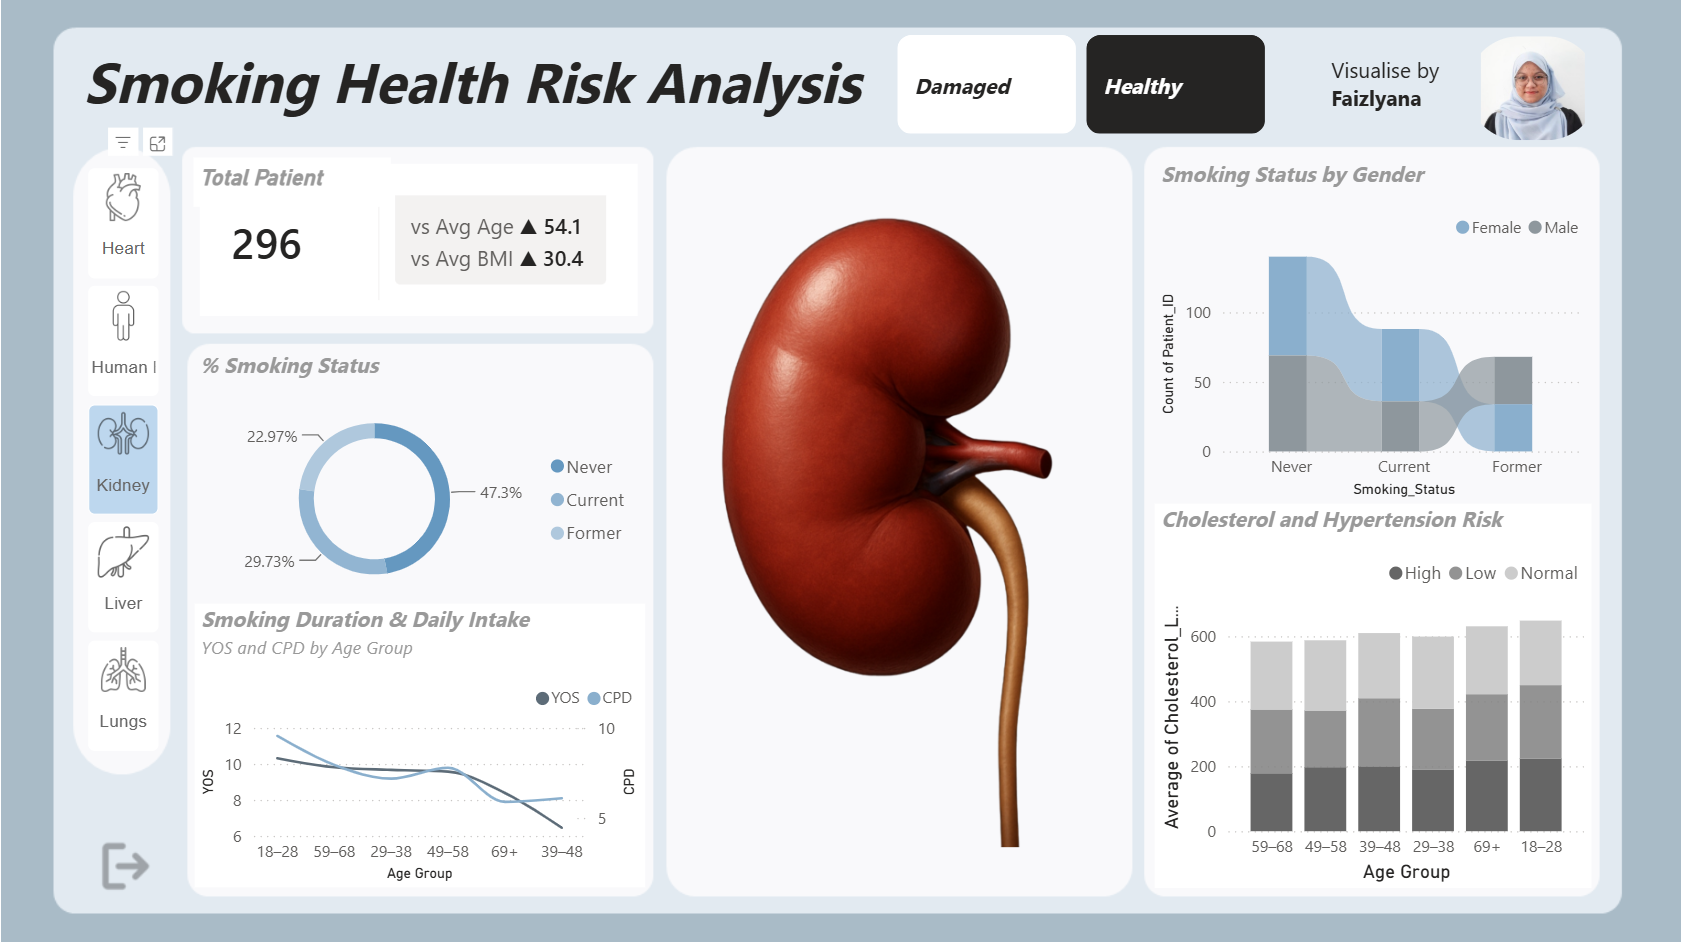

Layout of this report page (visuals, bound fields, positions):
{"tool":"powerbi","page":{"name":"Page 1","canvas":[1280,720],"ordinal":0},"visuals":[{"type":"cardVisual","fields":{"Data":["CountNonNull(health_dataset.Patient_ID)"]},"box":[146.5,119.8,343.1,126.2],"z":0},{"type":"textbox","box":[146.5,119.8,150,37.2],"z":1000},{"type":"advancedSlicerVisual","fields":{"Values":["condition.Organ_Condition"]},"box":[677.9,22.1,291.4,85.1],"z":2000},{"type":"ChicletSlicer1448559807354","fields":{"Category":["Organ.Organ"],"Image":["Organ.Icon_URL"]},"box":[58.1,119.8,73.3,465.1],"z":3000},{"type":"image","box":[511.6,119.8,344.2,557],"z":4000},{"type":"donutChart","title":"% Smoking Status","fields":{"Category":["health_dataset.Smoking_Status"],"Y":["CountNonNull(health_dataset.Smoking_Status)"]},"box":[146.5,266.3,343,194.2],"z":5000},{"type":"lineChart","title":"Smoking Duration & Daily Intake","fields":{"Category":["health_dataset.Age Group"],"Y":["Avg(health_dataset.Years_of_Smoking)"],"Y2":["Avg(health_dataset.Cigarettes_Per_Day)"]},"box":[147.7,460.5,343,216.3],"z":6000},{"type":"ribbonChart","title":"Smoking Status by Gender","fields":{"Category":["health_dataset.Smoking_Status"],"Y":["CountNonNull(health_dataset.Patient_ID)"],"Series":["health_dataset.Gender"]},"box":[879.1,120.9,332.6,262.8],"z":6001},{"type":"columnChart","title":"Cholesterol and Hypertension Risk","fields":{"Y":["Avg(health_dataset.Cholesterol_Level)"],"Category":["health_dataset.Age Group"],"Series":["health_dataset.BP_Risk"]},"box":[879.1,383.7,332.6,293],"z":6002},{"type":"textbox","box":[58.1,27.9,619.8,74.4],"z":6003},{"type":"textbox","box":[1008.1,37.2,159.3,57],"z":6004},{"type":"image","box":[1117.4,27.9,100,79.1],"z":6005}]}

Visuals, with their boxes in screenshot pixels (x1, y1, x2, y2), scaled from the page's 1280x720 canvas onto the 1681x942 screenshot:
cardVisual - CountNonNull(health_dataset.Patient_ID): box=[192, 157, 643, 322]
textbox: box=[192, 157, 389, 205]
advancedSlicerVisual - condition.Organ_Condition: box=[890, 29, 1273, 140]
ChicletSlicer1448559807354 - Organ.Organ x Organ.Icon_URL: box=[76, 157, 173, 765]
image: box=[672, 157, 1124, 885]
"% Smoking Status" donutChart: box=[192, 348, 643, 602]
"Smoking Duration & Daily Intake" lineChart: box=[194, 602, 644, 885]
"Smoking Status by Gender" ribbonChart: box=[1155, 158, 1591, 502]
"Cholesterol and Hypertension Risk" columnChart: box=[1155, 502, 1591, 885]
textbox: box=[76, 37, 890, 134]
textbox: box=[1324, 49, 1533, 123]
image: box=[1467, 37, 1599, 140]
